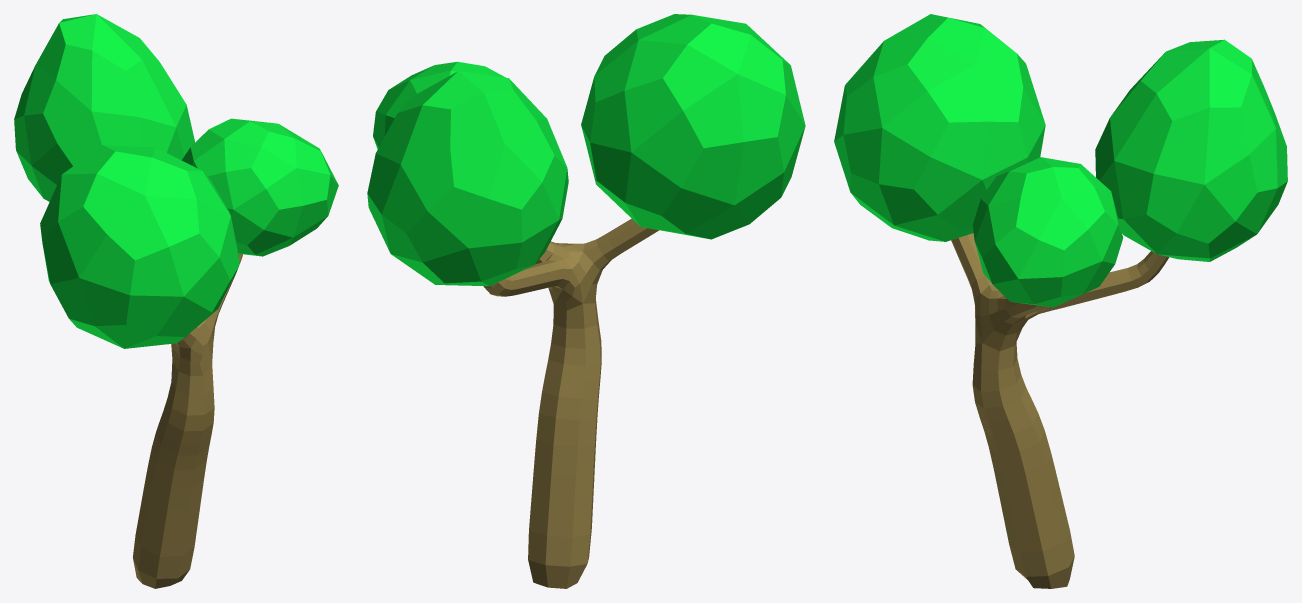
The model's file is Tree03.fbx.
The picture shows the model from 3 angles, left to right: view 1: azimuth 30°, elevation 25°; view 2: azimuth 150°, elevation 25°; view 3: azimuth 270°, elevation 25°; orthographic projection. The views are drawn at different scales.
Parts seen in each view (by area): view 1: Tree05; view 2: Tree05; view 3: Tree05.
Boxes of the visible parts, <box> form: Tree05: <box>14,14,338,588</box>; Tree05: <box>367,14,805,588</box>; Tree05: <box>834,14,1287,588</box>.
Bounding box in the file's own units: 3.43 × 5.15 × 3.93.
